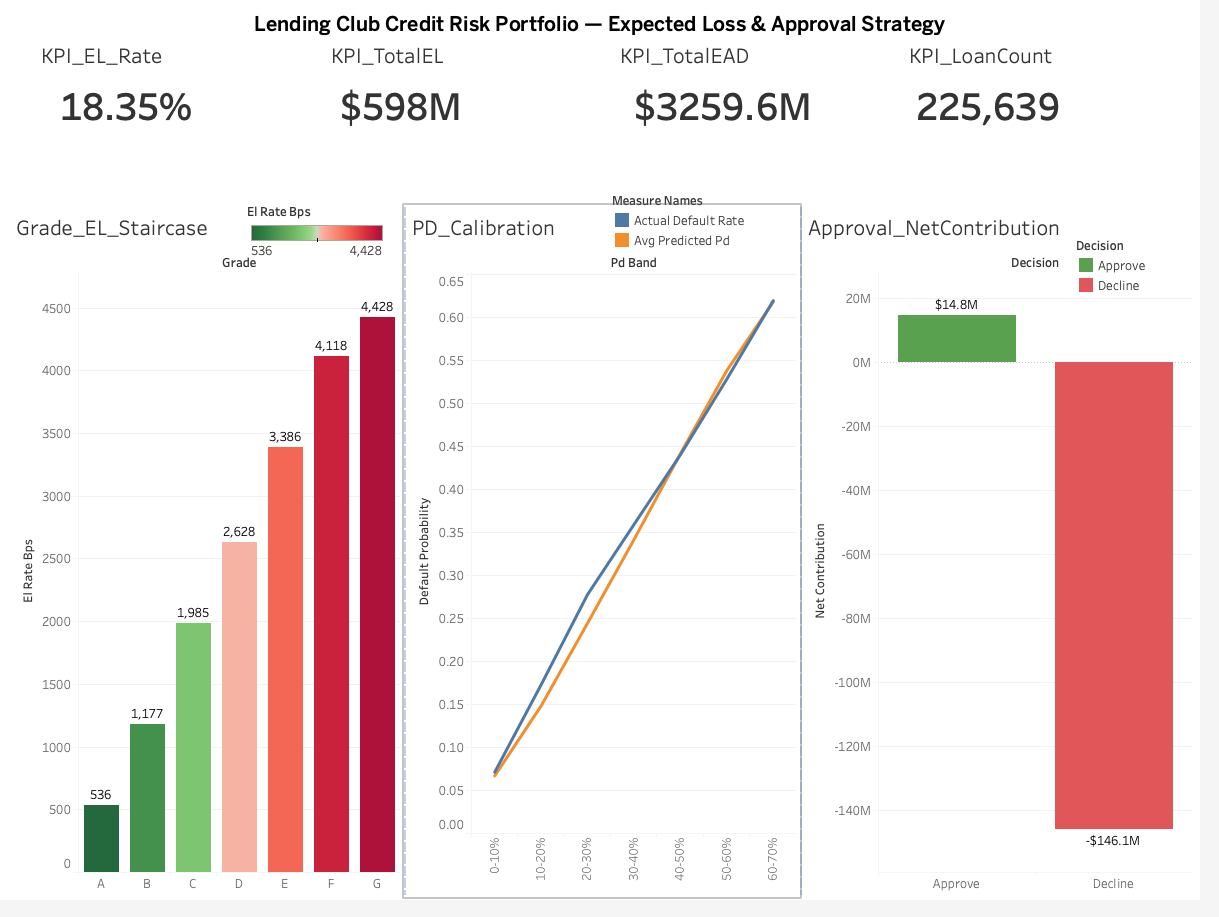

This screenshot's page, from the dashboard's own definition file:
{"tool":"tableau","page":{"name":"Lending Club Credit Risk Portfolio","canvas":[1200,900],"ordinal":0},"visuals":[{"type":"text","box":[8,8,1184,32]},{"type":"worksheet","title":"KPI_EL_Rate","mark":"Text","box":[33,33,290,170]},{"type":"worksheet","title":"KPI_TotalEL","mark":"Text","box":[323,33,289,170]},{"type":"worksheet","title":"KPI_TotalEAD","mark":"Text","box":[612,33,289,170]},{"type":"worksheet","title":"KPI_LoanCount","mark":"Text","box":[901,33,289,170]},{"type":"legend","title":"PD_Calibration","param":"[federated.00qzevl0mf6own1fepueu0u2a7dw].[:Measure Names]","box":[612,192,178,58]},{"type":"legend","title":"Grade_EL_Staircase","param":"[federated.017e3sv194w6g11e7qlxg0r0ta8g].[sum:el_rate_bps:qk]","box":[247,203,140,60]},{"type":"worksheet","title":"Grade_EL_Staircase","mark":"Automatic","rows":["el_rate_bps"],"cols":["grade"],"box":[8,205,396,692]},{"type":"worksheet","title":"PD_Calibration","mark":"Line","cols":["pd_band"],"box":[404,205,396,692]},{"type":"worksheet","title":"Approval_NetContribution","mark":"Automatic","rows":["net_contribution"],"cols":["decision"],"box":[800,205,396,692]},{"type":"legend","title":"Approval_NetContribution","param":"[federated.04qg8ka0681yyh16co6w5181pplb].[none:decision:nk]","box":[1076,237,121,58]}]}

Visuals, with their boxes in screenshot pixels (x1, y1, x2, y2), scaled from the page's 1200x900 canvas onto the 1219x917 screenshot:
text: x1=8 y1=8 x2=1211 y2=41
"KPI_EL_Rate" worksheet (Text marks): x1=34 y1=34 x2=328 y2=207
"KPI_TotalEL" worksheet (Text marks): x1=328 y1=34 x2=622 y2=207
"KPI_TotalEAD" worksheet (Text marks): x1=622 y1=34 x2=915 y2=207
"KPI_LoanCount" worksheet (Text marks): x1=915 y1=34 x2=1209 y2=207
"PD_Calibration" legend: x1=622 y1=196 x2=803 y2=255
"Grade_EL_Staircase" legend: x1=251 y1=207 x2=393 y2=268
"Grade_EL_Staircase" worksheet: x1=8 y1=209 x2=410 y2=914
"PD_Calibration" worksheet (Line marks): x1=410 y1=209 x2=813 y2=914
"Approval_NetContribution" worksheet: x1=813 y1=209 x2=1215 y2=914
"Approval_NetContribution" legend: x1=1093 y1=241 x2=1216 y2=301
